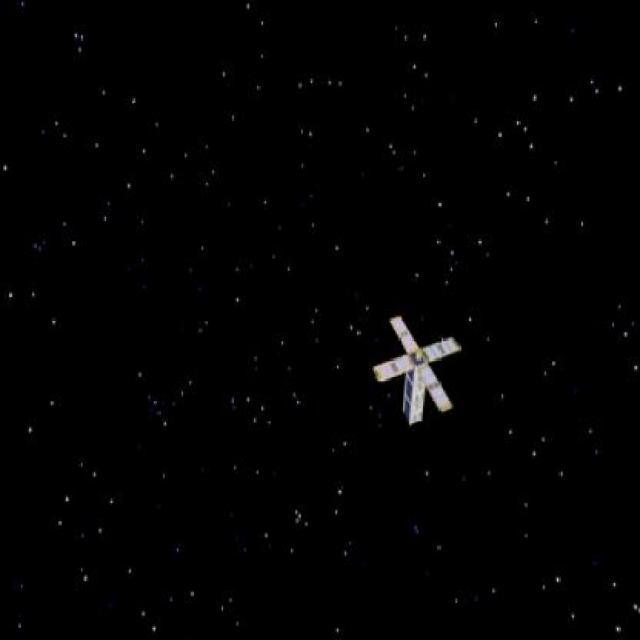medium_debris: (365, 308, 475, 425)
